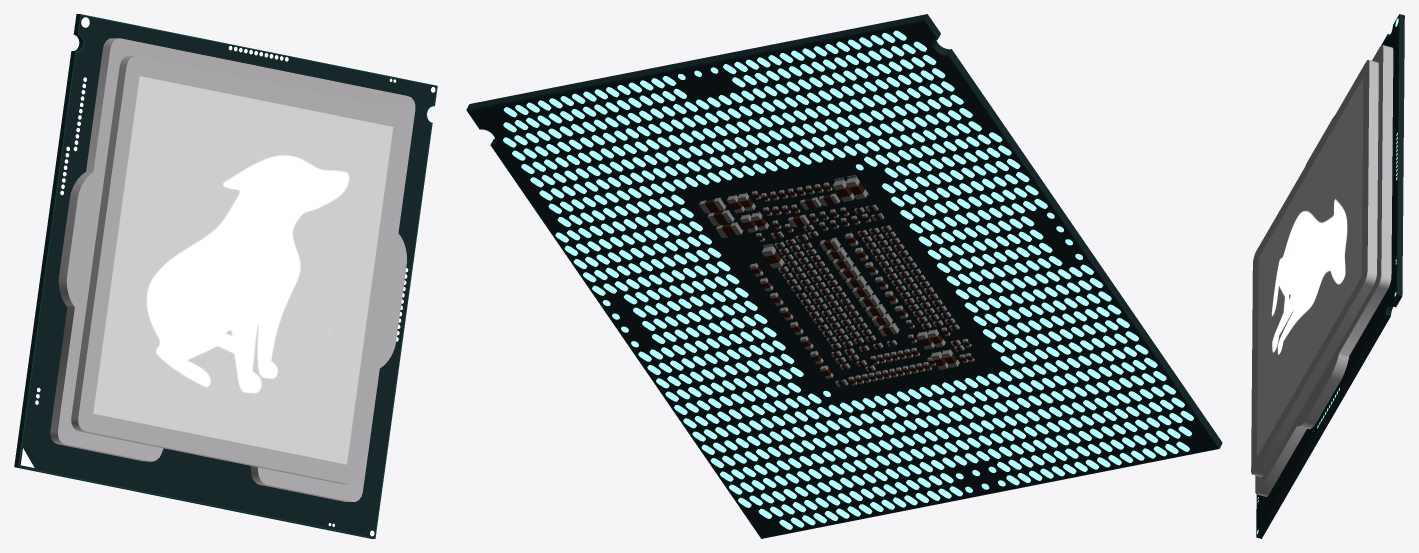
The model's file is tsrychip-transformed.glb.
3 renders of one model, left to right at view 1: azimuth 30°, elevation 25°; view 2: azimuth 150°, elevation 25°; view 3: azimuth 270°, elevation 25°, orthographic. The views are drawn at different scales.
Visible parts, largest first — view 1: Plane000_1, Plane118, Gold1001; view 2: Plane000_1, Gold1001; view 3: Plane000_1, Plane118.
Part boxes in pixels (x1,y1,x2,y2): Plane000_1: (14,14,437,538); Plane118: (146,155,349,398); Gold1001: (21,17,435,536); Plane000_1: (466,14,1222,538); Gold1001: (503,30,1193,529); Plane000_1: (1251,14,1404,538); Plane118: (1271,199,1347,354).
Size of the model in its own units: 1.63 by 1.61 by 0.5106.
3 materials, 3 textured.
